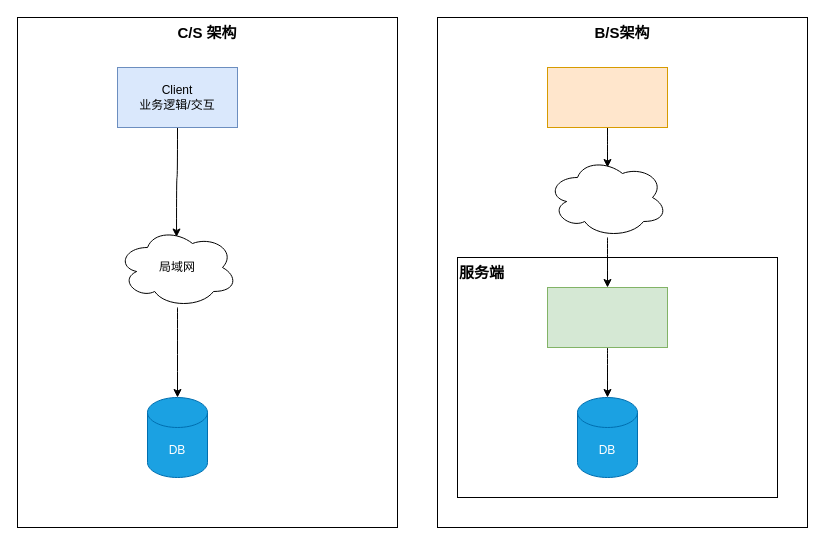
The diagram is 825 pixels wide and 545 high, and some of its shapes have lost their labels. The shapes that lost their labels are listed below. From the top down, each one's centre as x and y in pixels, then its label:
At point 607,97: "浏览器www 交互".
At point 607,197: "公网".
At point 607,317: "业务服务器 业务逻辑".
